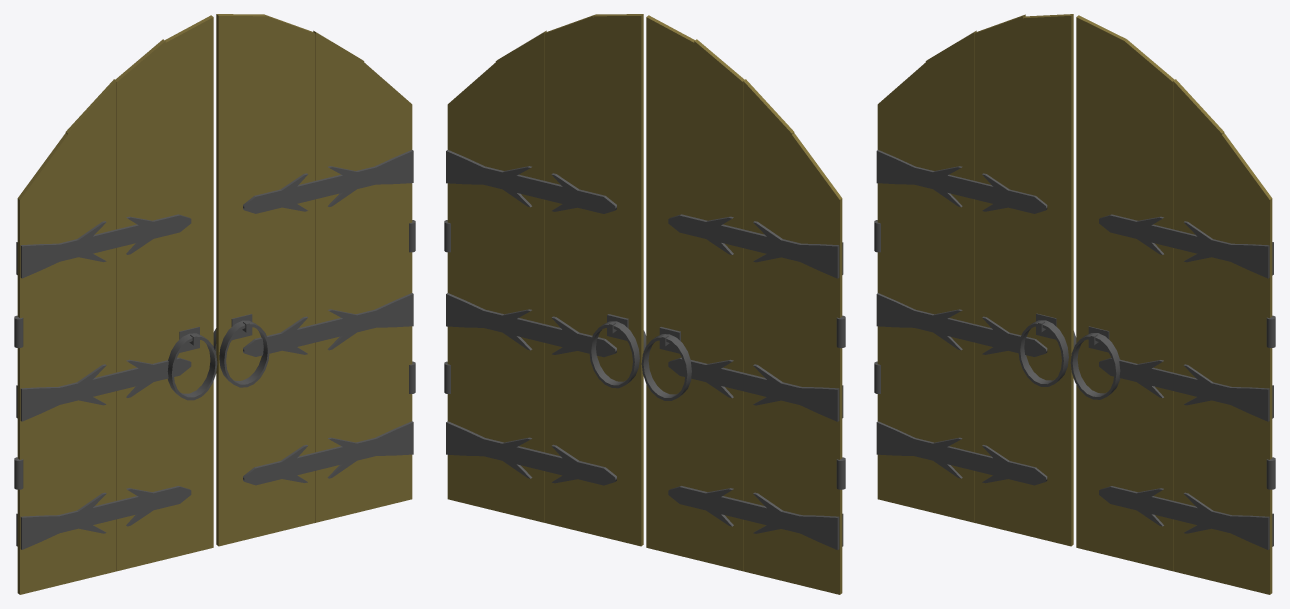
File: MedievalDoor.fbx
3 views of the same model, side by side, from view 1: azimuth 30°, elevation 25°; view 2: azimuth 150°, elevation 25°; view 3: azimuth 330°, elevation 25° (orthographic).
Visible parts, largest first — view 1: polySurface25796; view 2: polySurface25796; view 3: polySurface25796.
Boxes of the visible parts, x1=… form: polySurface25796: x1=14, y1=14, x2=415, y2=594; polySurface25796: x1=444, y1=14, x2=845, y2=594; polySurface25796: x1=874, y1=14, x2=1275, y2=594.
Bounding box in the file's own units: 7.4 × 9.37 × 0.5287.
